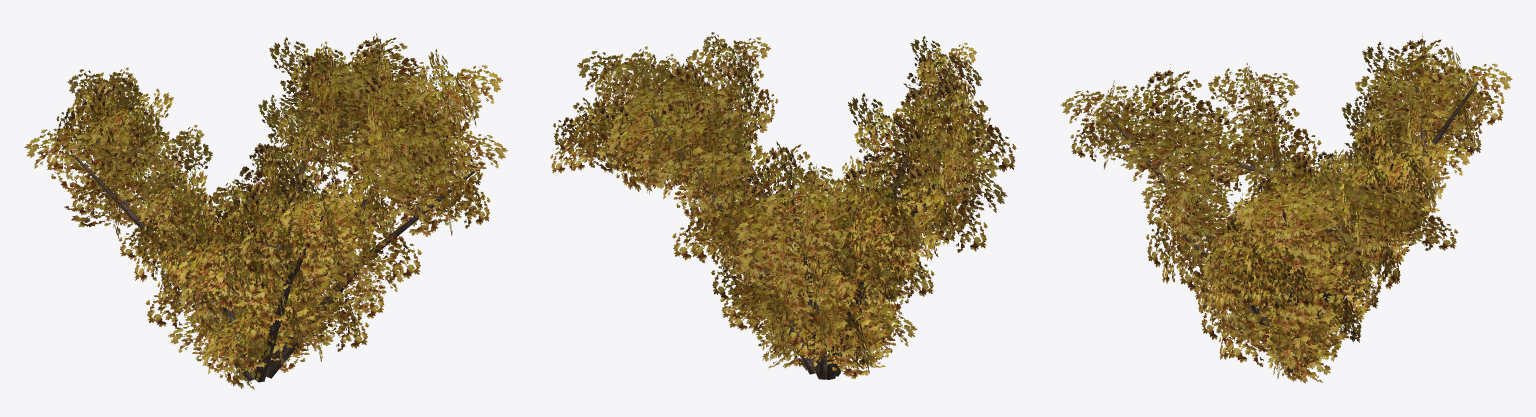
File: bush_3d_06_yellow_lod0.glb
The picture shows the model from 3 angles, left to right: view 1: azimuth 30°, elevation 25°; view 2: azimuth 150°, elevation 25°; view 3: azimuth 270°, elevation 25°; orthographic projection. The views are drawn at different scales.
Visible parts, largest first — view 1: foliage_cards, wood_geometry; view 2: foliage_cards, wood_geometry; view 3: foliage_cards, wood_geometry.
Part boxes in pixels (bbox=[...]): foliage_cards: bbox=[24, 32, 507, 389]; wood_geometry: bbox=[75, 55, 477, 382]; foliage_cards: bbox=[550, 32, 1016, 378]; wood_geometry: bbox=[627, 67, 979, 379]; foliage_cards: bbox=[1060, 33, 1512, 383]; wood_geometry: bbox=[1101, 82, 1478, 372].
Bounding box in the file's own units: 3.15 × 1.95 × 2.94.
2 materials, 2 textured.
